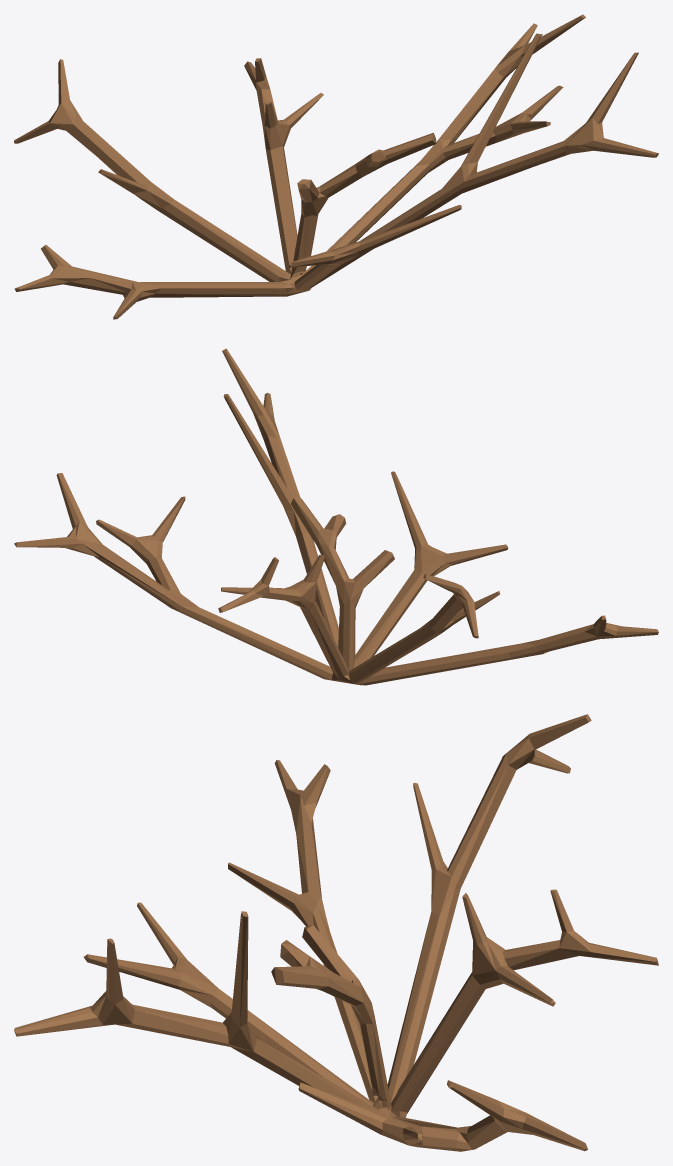
File: Bush_4 Withered.fbx
3 renders of one model, top to bottom at view 1: azimuth 30°, elevation 25°; view 2: azimuth 150°, elevation 25°; view 3: azimuth 270°, elevation 25°, orthographic. The views are drawn at different scales.
Parts seen in each view (by area): view 1: Bush4Withered_mesh; view 2: Bush4Withered_mesh; view 3: Bush4Withered_mesh.
Boxes of the visible parts, x1,y1,x2,y2 form: Bush4Withered_mesh: [14, 14, 658, 319]; Bush4Withered_mesh: [14, 348, 658, 685]; Bush4Withered_mesh: [14, 714, 658, 1151].
Bounding box in the file's own units: 222 × 85.33 × 142.
